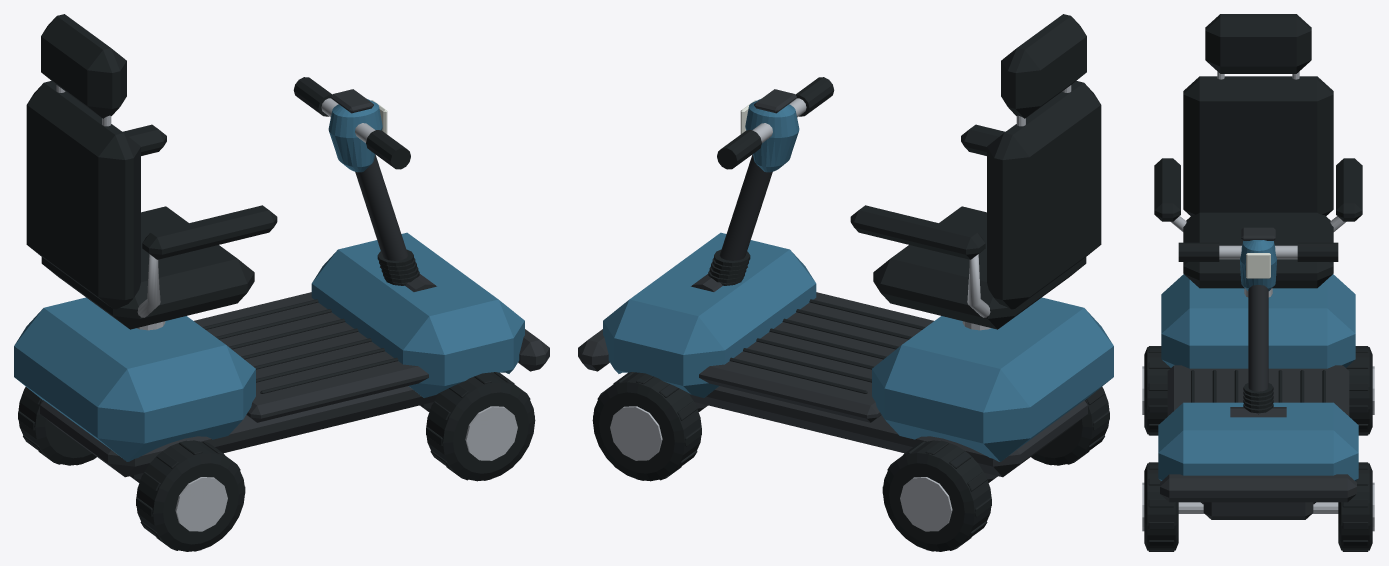
File: A-NEW-20261026-FOUR-WHEEL-MOBILITY-SCOOTER-001_LOD2_R4.glb
3 views of the same model, side by side, from view 1: azimuth 30°, elevation 25°; view 2: azimuth 150°, elevation 25°; view 3: azimuth 270°, elevation 25° (orthographic). The views are drawn at different scales.
Parts seen in each view (by area): view 1: rear power housing, tall padded back, front fairing, textured low floorboard, padded seat, step through chassis, four wheel tire, four wheel tire.002, separate padded headrest, black armrest, tiller column, teardrop tiller housing (+9 smaller); view 2: rear power housing, tall padded back, front fairing, textured low floorboard, padded seat, step through chassis, four wheel tire.001, four wheel tire.003, separate padded headrest, black armrest.001, tiller column, teardrop tiller housing (+9 smaller); view 3: tall padded back, rear power housing, front fairing, padded seat, separate padded headrest, front dark bumper, textured low floorboard, tiller column, axle chassis support.001, four wheel tire.002, four wheel tire.003, black armrest (+11 smaller).
Part boxes in pixels (box(x1,y1,x2,y2)): rear power housing: box(14, 297, 255, 461); tall padded back: box(26, 81, 140, 309); front fairing: box(311, 232, 524, 397); textured low floorboard: box(194, 292, 428, 422); padded seat: box(41, 206, 254, 329); step through chassis: box(40, 386, 438, 477); four wheel tire: box(136, 440, 245, 551); four wheel tire.002: box(426, 372, 535, 481); separate padded headrest: box(41, 14, 126, 118); black armrest: box(142, 205, 277, 259); tiller column: box(355, 154, 408, 260); teardrop tiller housing: box(328, 99, 382, 172); rear power housing: box(872, 297, 1113, 461); tall padded back: box(987, 81, 1101, 309); front fairing: box(603, 232, 816, 397); textured low floorboard: box(699, 292, 933, 422); padded seat: box(873, 206, 1086, 329); step through chassis: box(689, 386, 1087, 477); four wheel tire.001: box(882, 440, 991, 551); four wheel tire.003: box(592, 372, 701, 481); separate padded headrest: box(1001, 14, 1086, 118); black armrest.001: box(850, 205, 985, 259); tiller column: box(719, 154, 772, 260); teardrop tiller housing: box(745, 99, 799, 172); tall padded back: box(1183, 76, 1333, 215); rear power housing: box(1161, 274, 1355, 368); front fairing: box(1158, 402, 1358, 480); padded seat: box(1183, 212, 1333, 288); separate padded headrest: box(1205, 14, 1311, 73); front dark bumper: box(1160, 474, 1356, 502); textured low floorboard: box(1167, 365, 1349, 416); tiller column: box(1248, 285, 1268, 391); axle chassis support.001: box(1203, 502, 1313, 519); four wheel tire.002: box(1144, 463, 1178, 550); four wheel tire.003: box(1338, 463, 1372, 550); black armrest: box(1154, 158, 1180, 221).
Size of the model in its own units: 1.34 by 1.4 by 0.743.
